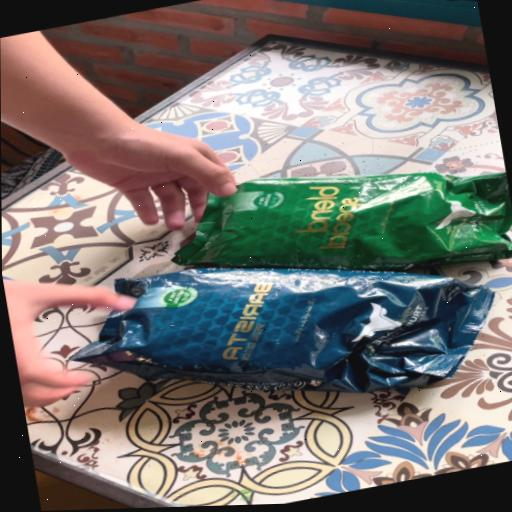cafe_hat: (72, 267, 493, 392)
cafe_xay: (173, 171, 512, 271)
